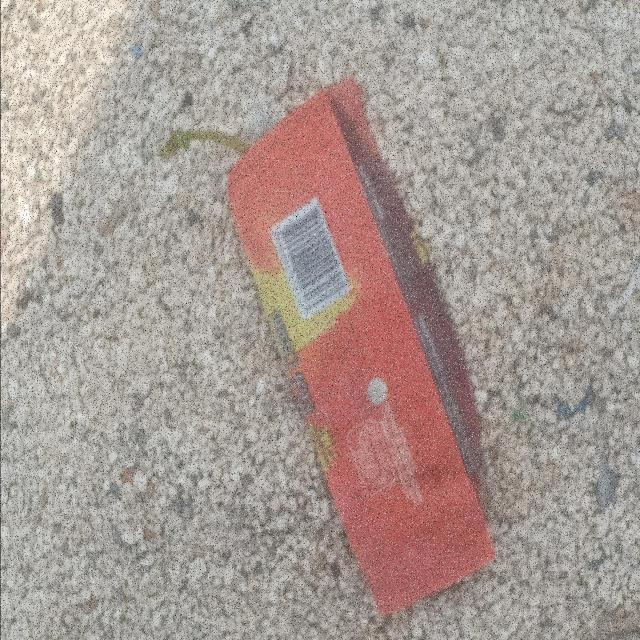plastic_waste: (226, 75, 498, 622)
